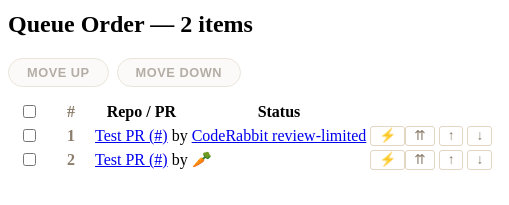
it: QueueOrder › move actions › shows error message when move request fails
Click the button named "Move up" at coordinates (451, 136), box [439,126,463,146]
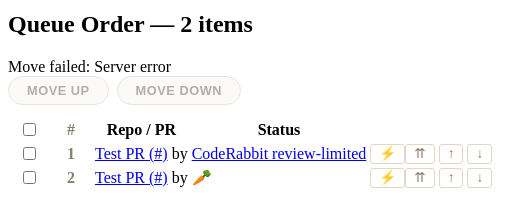
Expected: the text "Move failed: Server error" is shown, [8,58,171,75]
